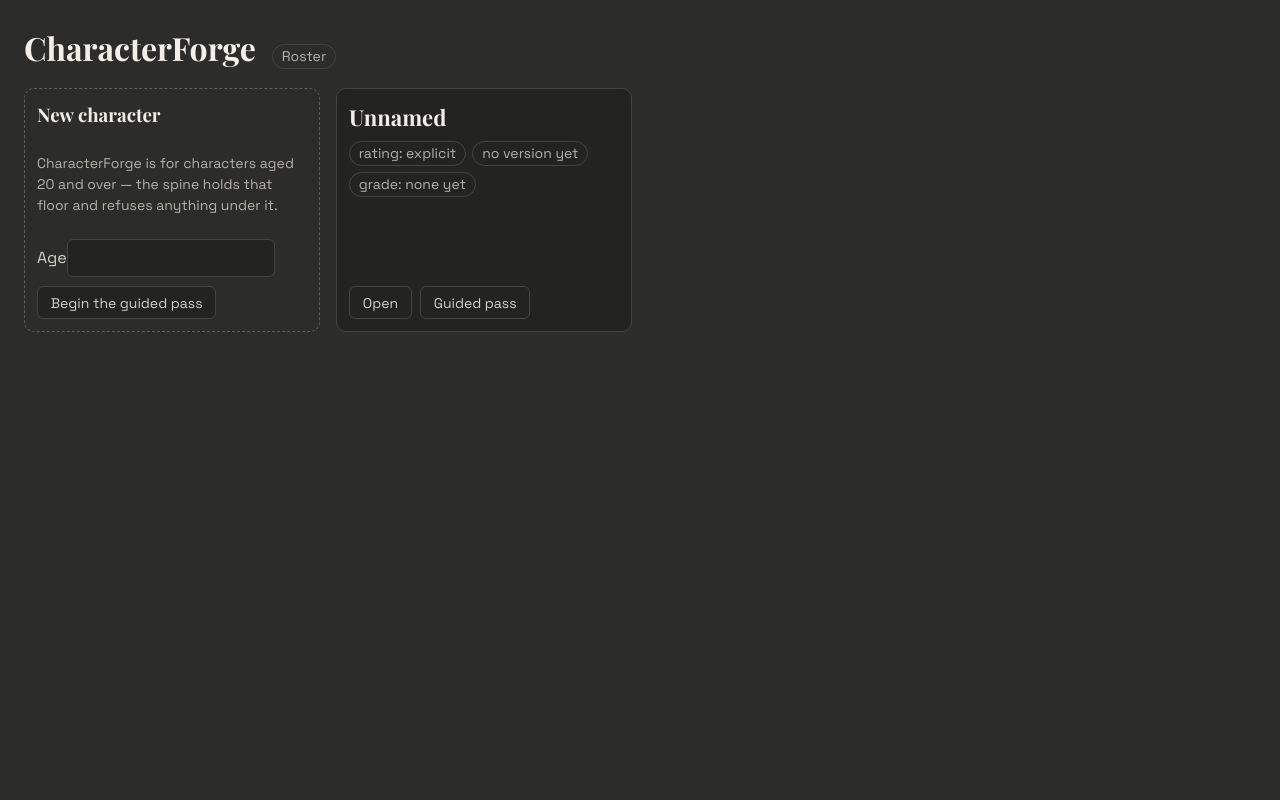
Scenario: the age gate is step zero (§F.1) › stamps AGE_UNDER_FLOOR on the field, then success opens the Session
Check: the text "aged 20 and over" is shown, box [37,154,294,214]
In the number field labelled "Age": (171, 258) [67,239,275,277], type "19"
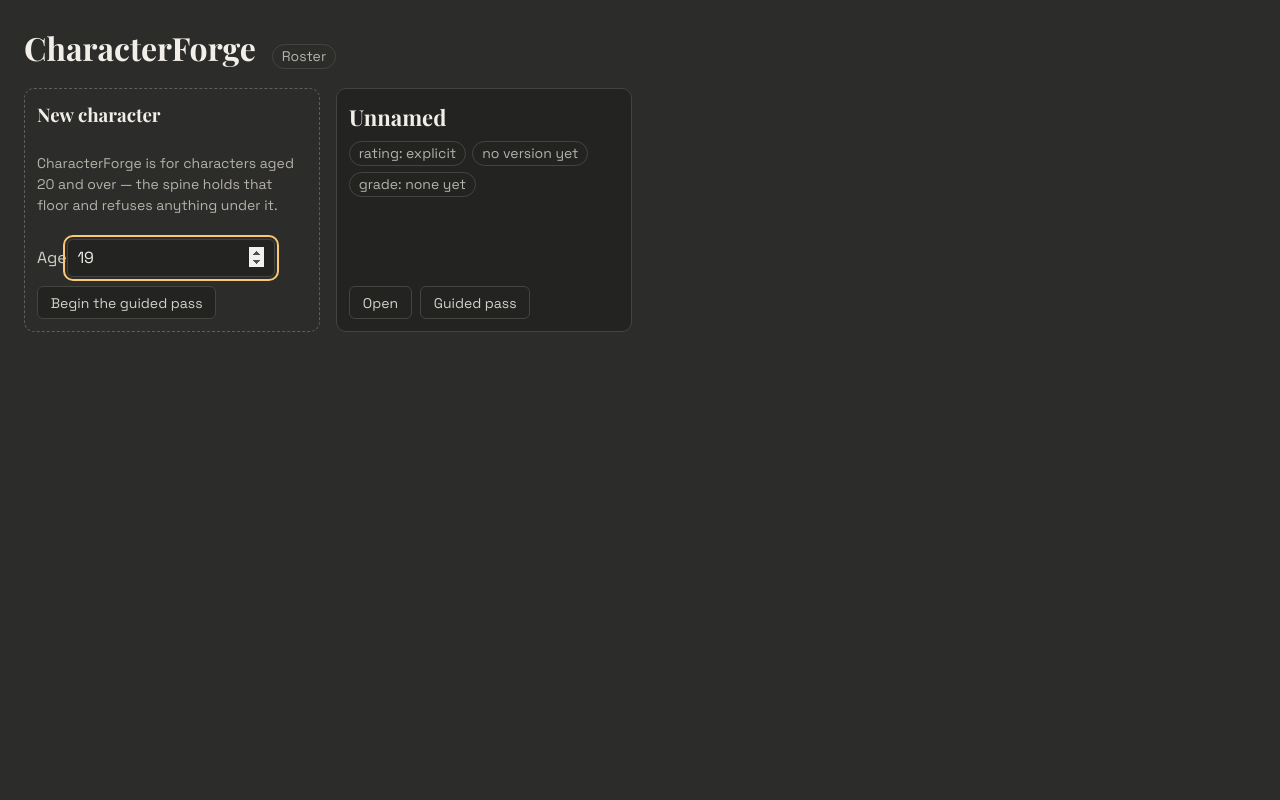
Click the button "Begin the guided pass": (127, 303) [37,286,216,319]
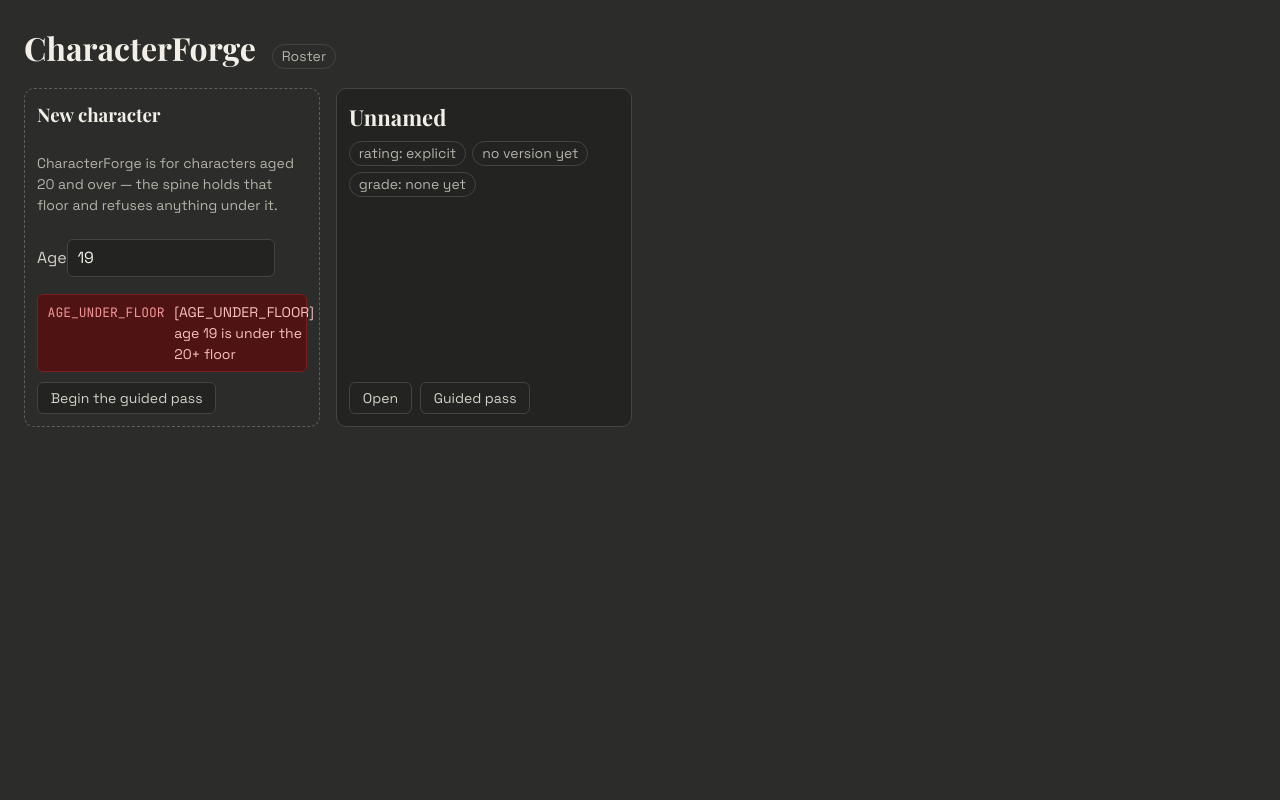
Check: the message shows "AGE_UNDER_FLOOR", box [48,304,165,321]
Replace the text in the number field labelled "Age" with "25": (171, 258) [67,239,275,277]
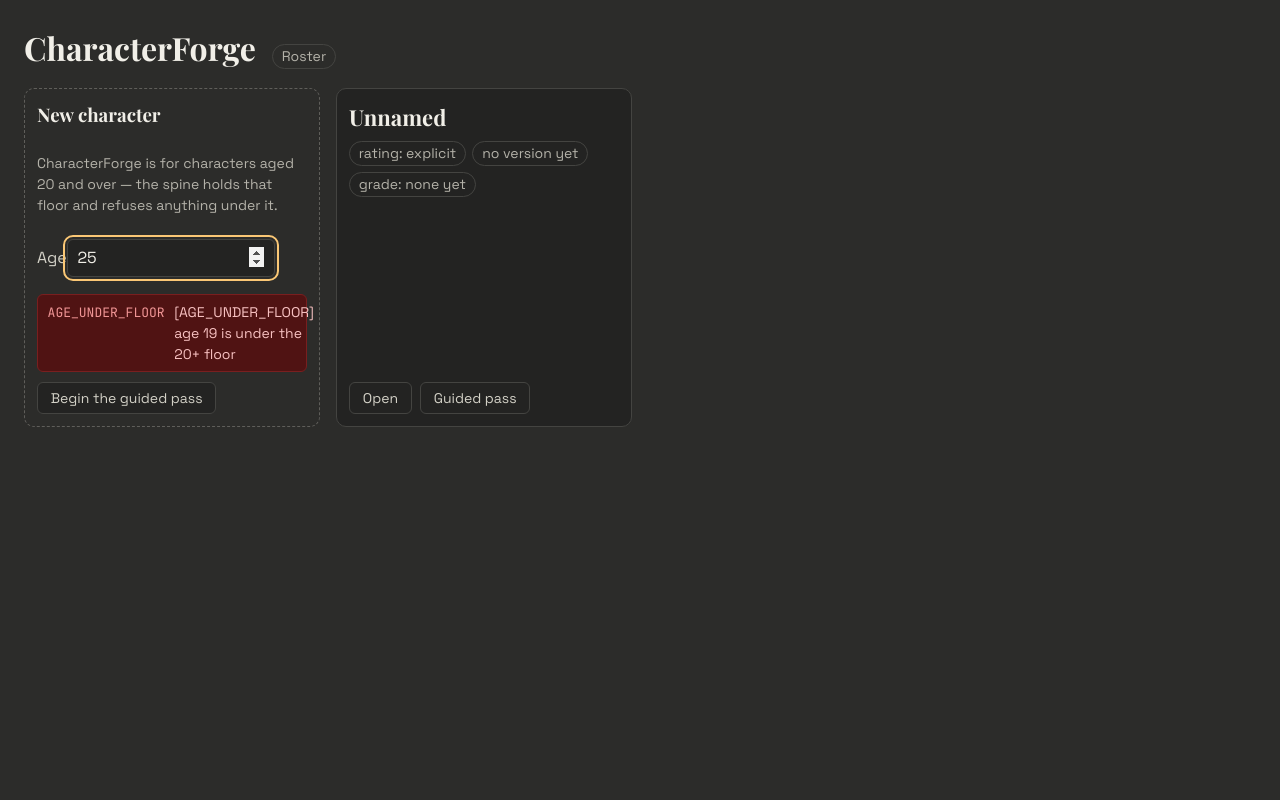
Click the button "Begin the guided pass": (127, 398) [37,382,216,414]
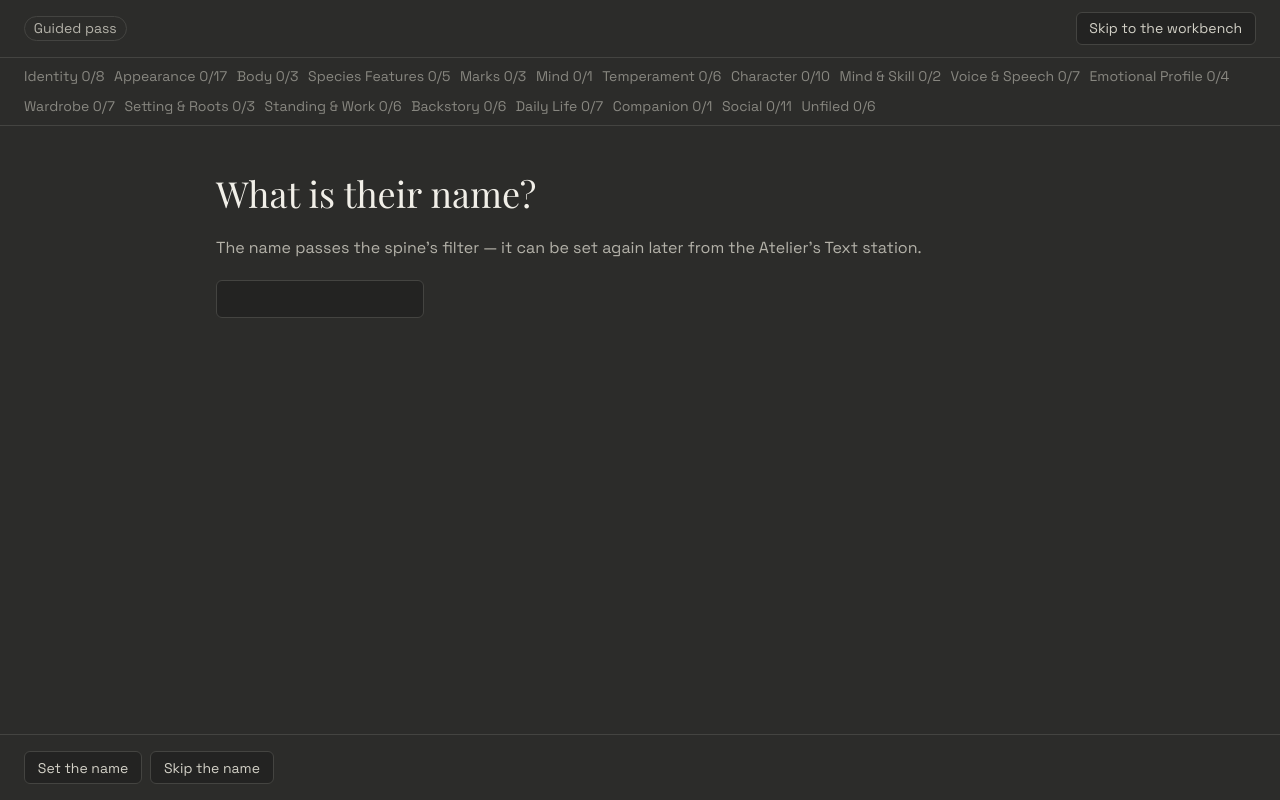
Check: the text "What is their name?" is shown, box [216,169,536,217]
